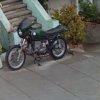Motorcycle: (3, 15, 73, 73)
